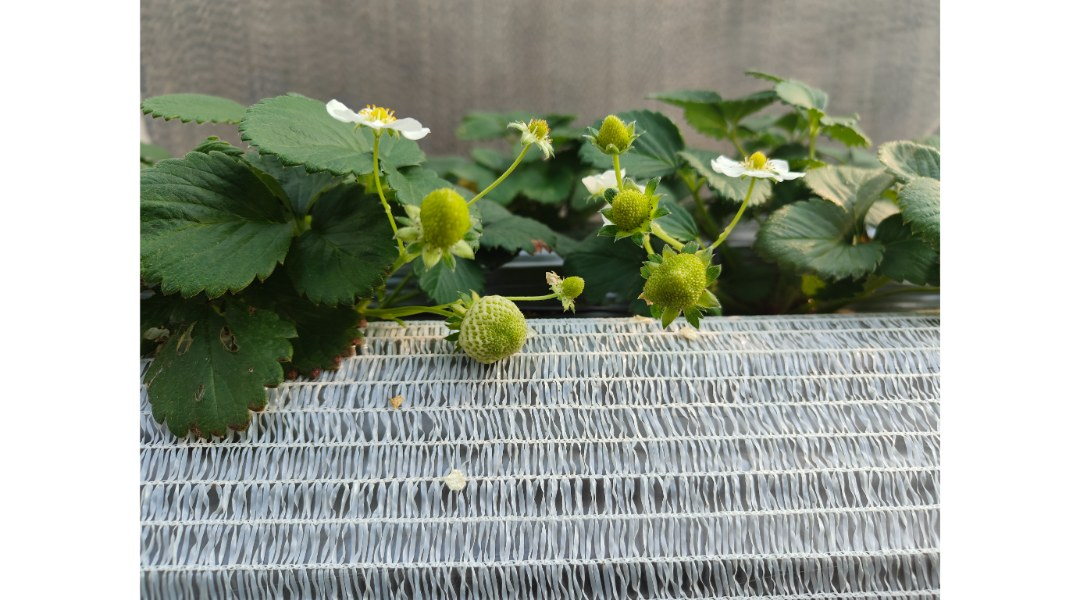berry: (632, 238, 729, 332), (398, 178, 480, 267), (447, 288, 533, 369), (594, 179, 673, 246), (581, 99, 649, 164), (544, 260, 591, 316)
flower: (326, 97, 435, 154), (693, 135, 799, 193), (501, 113, 563, 168)
strain: (472, 142, 530, 211), (708, 182, 756, 258), (608, 150, 630, 196)
